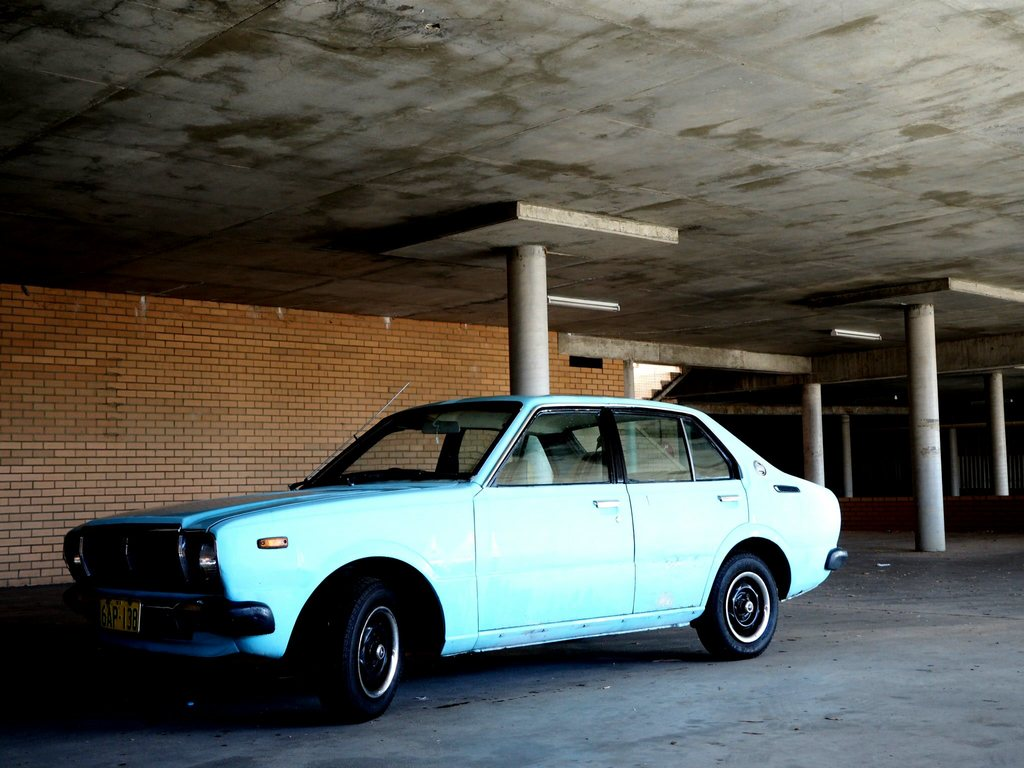Car: (63, 394, 852, 723)
